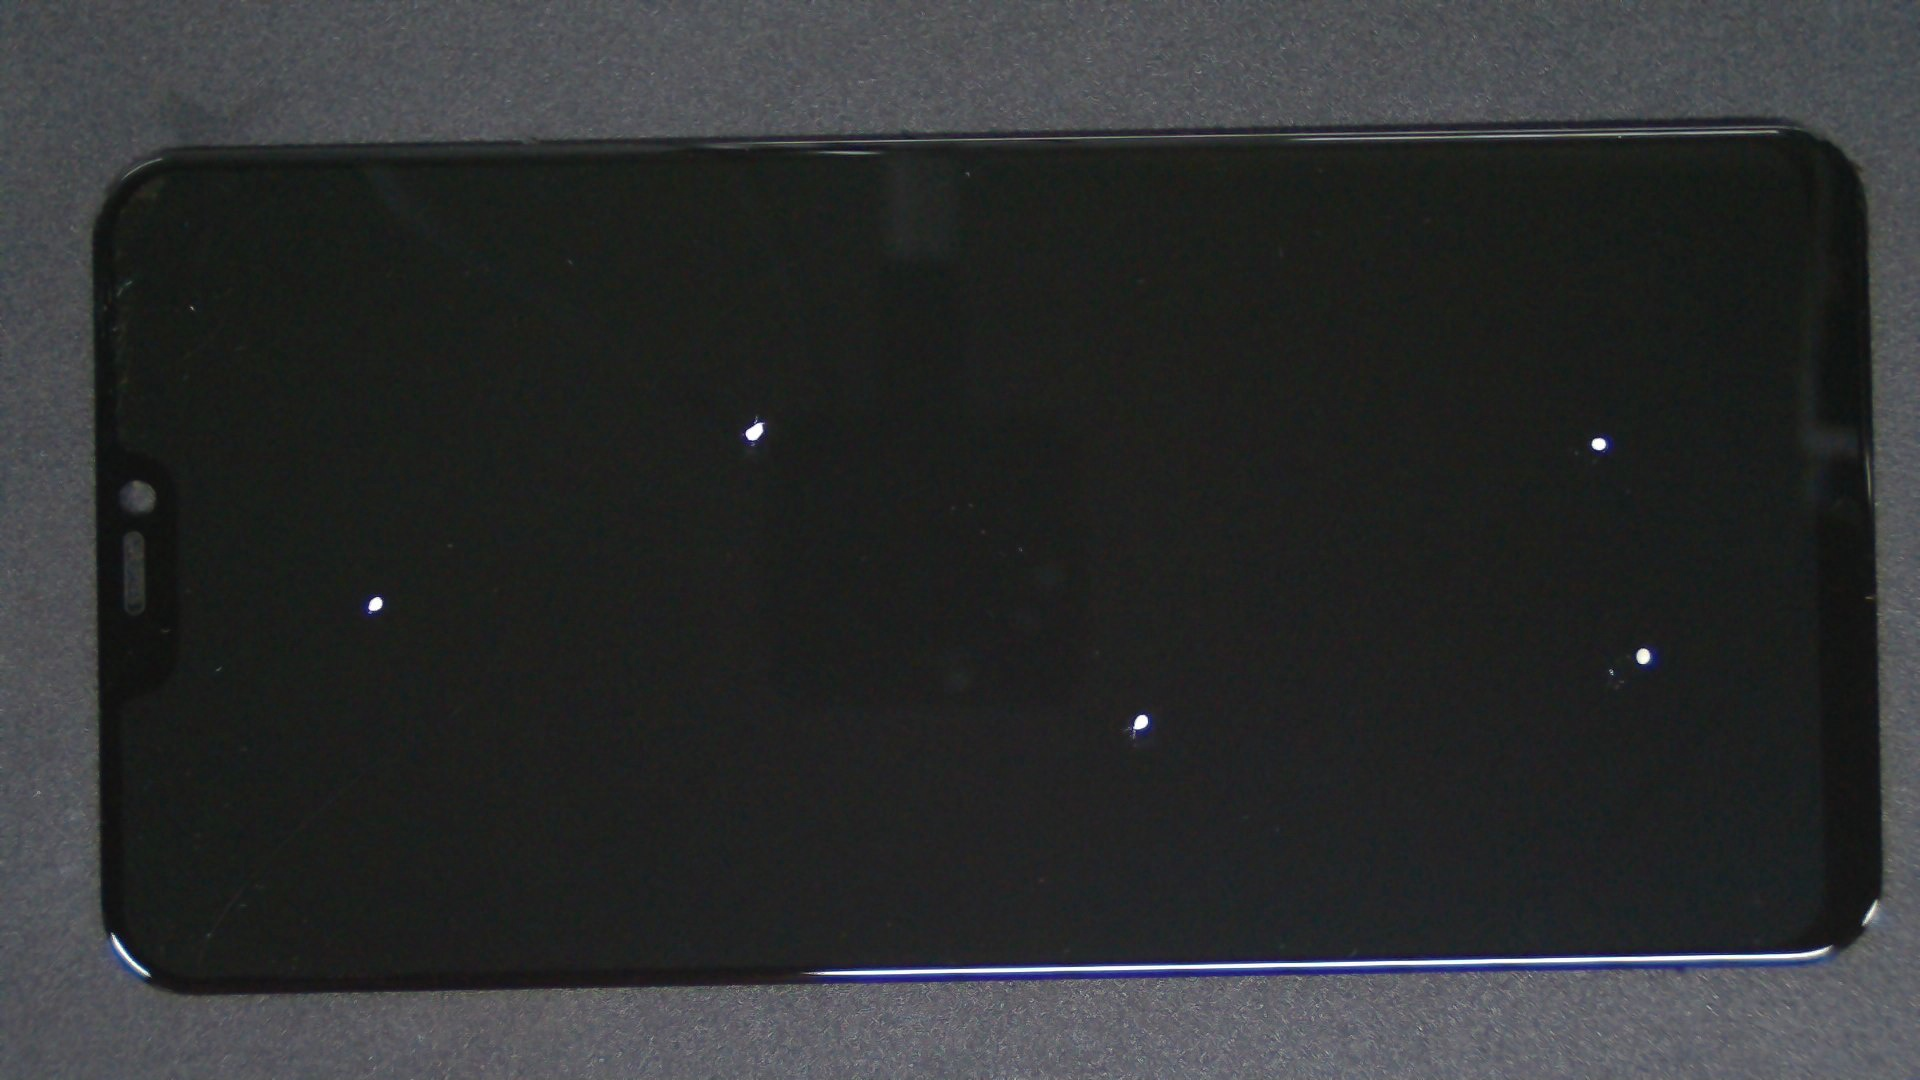oil: (572, 356, 1716, 1069), (822, 322, 1920, 971), (800, 218, 1920, 654), (378, 210, 1135, 632), (190, 295, 570, 890)
